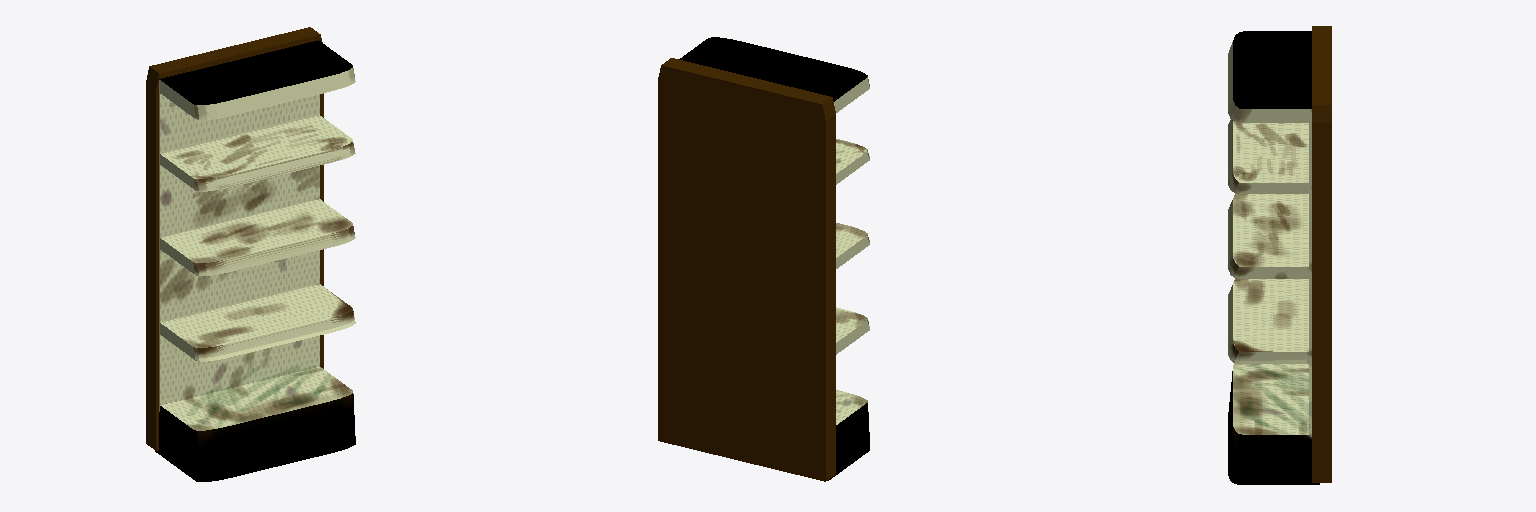
3 renders of one model, left to right at view 1: azimuth 30°, elevation 25°; view 2: azimuth 150°, elevation 25°; view 3: azimuth 270°, elevation 25°, orthographic.
Visible parts, largest first — view 1: EndShelf, Divider; view 2: Divider, EndShelf; view 3: EndShelf, Divider.
Part boxes in pixels (x1,y1,x2,y2): EndShelf: (155, 40, 355, 481); Divider: (146, 27, 323, 450); Divider: (658, 58, 835, 481); EndShelf: (679, 37, 869, 480); EndShelf: (1228, 31, 1319, 484); Divider: (1312, 26, 1331, 482).
Size of the model in its own units: 3.48 by 7.54 by 1.88.
Materials: 1 (1 with a texture image).